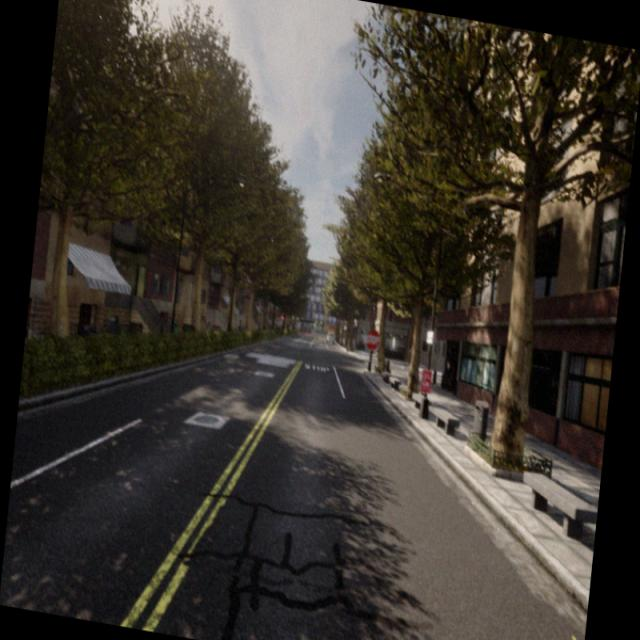stop sign: (364, 326, 381, 352)
